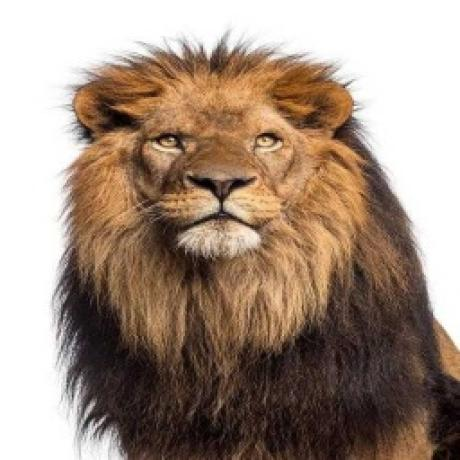Lion: (51, 30, 460, 460)
